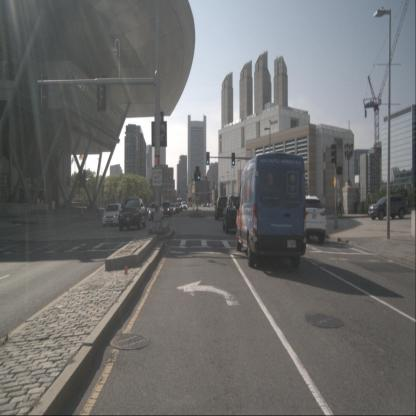human-pedestrian-adult: (336, 193, 342, 217)
vehicle-car: (236, 153, 306, 269), (293, 195, 326, 244), (223, 193, 248, 234), (368, 194, 406, 220), (119, 197, 146, 231), (102, 204, 124, 228), (215, 197, 231, 220), (148, 203, 164, 221), (162, 201, 172, 216), (168, 204, 176, 214), (173, 204, 180, 214), (181, 201, 187, 211)
